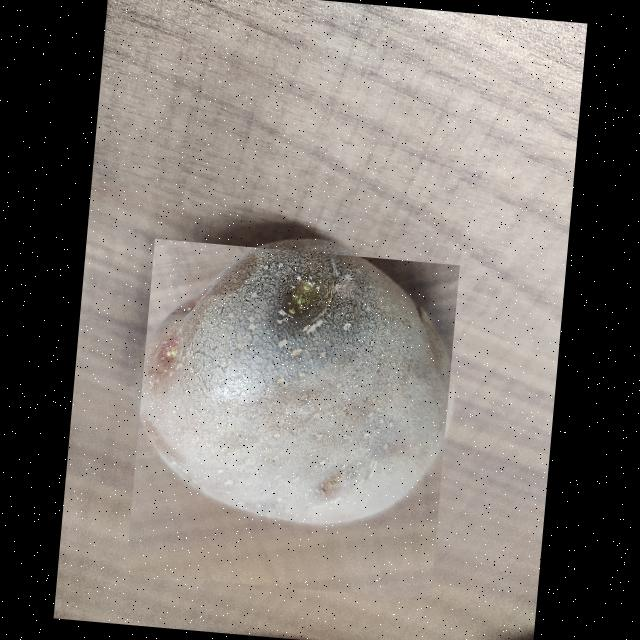Damaged potato: (126, 237, 460, 598)
